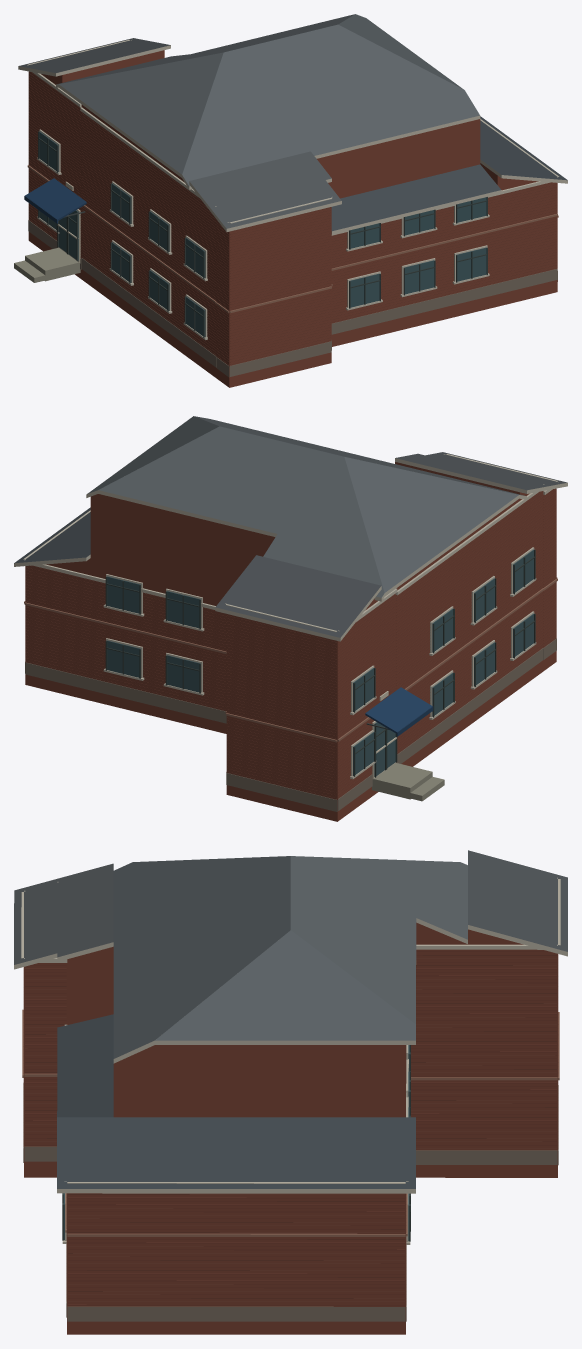
Rendered from site.glb.
3 renders of one model, top to bottom at view 1: azimuth 30°, elevation 25°; view 2: azimuth 150°, elevation 25°; view 3: azimuth 270°, elevation 25°, orthographic. The views are drawn at different scales.
Visible parts, largest first — view 1: hilyard-apartments-973; view 2: hilyard-apartments-973; view 3: hilyard-apartments-973.
Boxes of the visible parts, box(x1,y1,x2,y2) form: hilyard-apartments-973: box(18, 14, 567, 387); hilyard-apartments-973: box(14, 416, 567, 821); hilyard-apartments-973: box(14, 850, 567, 1334).
Bounding box in the file's own units: 18.2 × 10.46 × 16.57.
